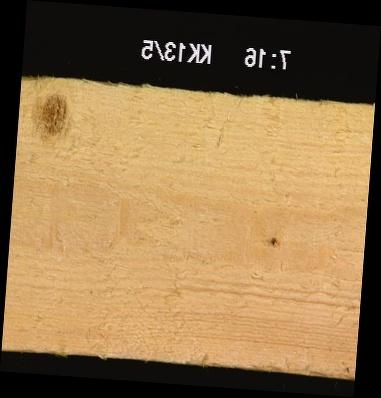small_knot: (266, 232, 282, 249)
sound_knot: (36, 91, 69, 136)
